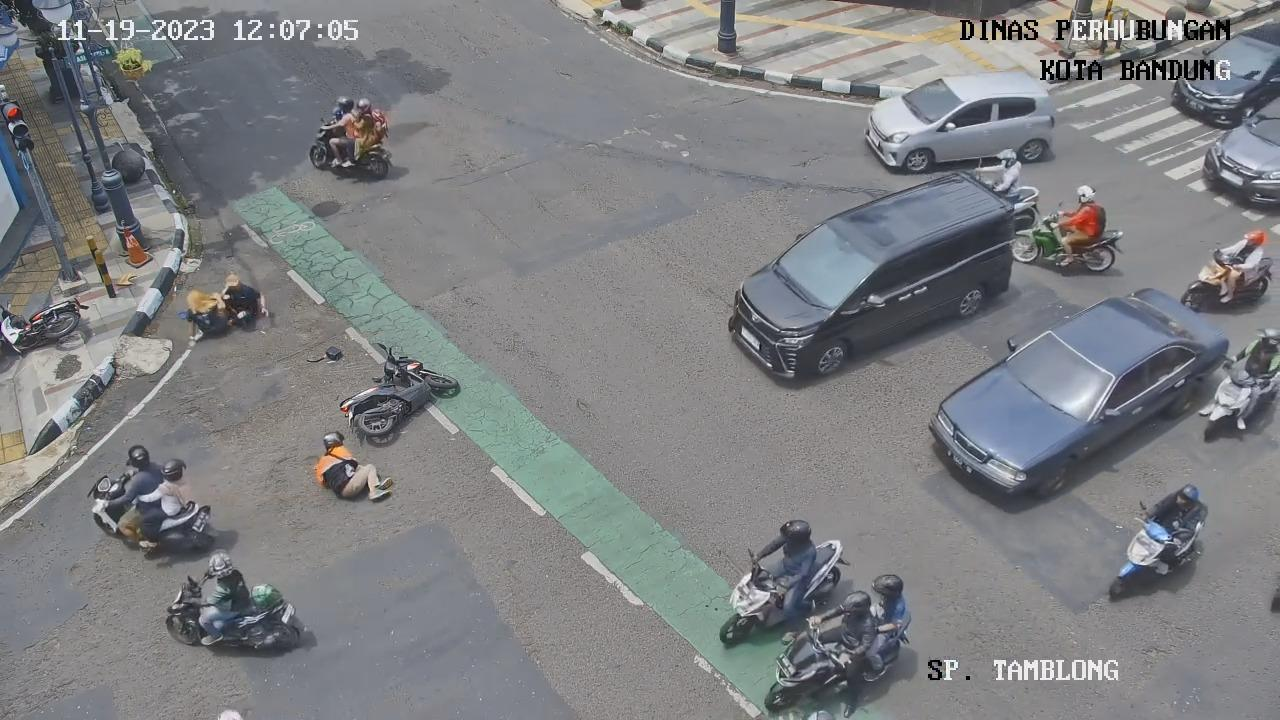accident: (305, 420, 400, 513), (217, 273, 272, 333), (176, 277, 229, 339)
